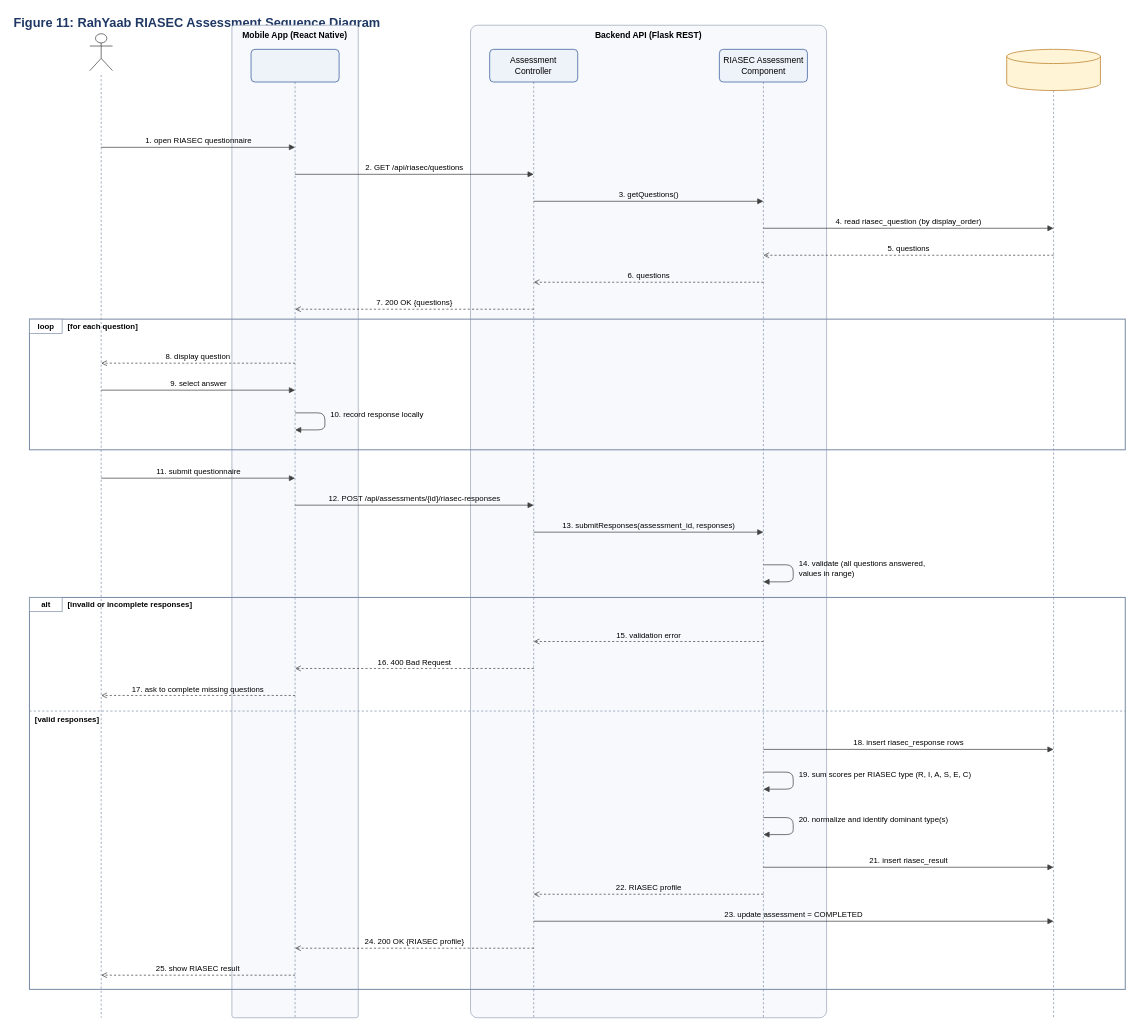
Some shapes in this 1138 by 1031 pixel diagram are drawn without their labels. Each missing label, with the centre of its shape:
Database: (1053,70)
Mobile UI: (294,65)
Student: (101,52)
